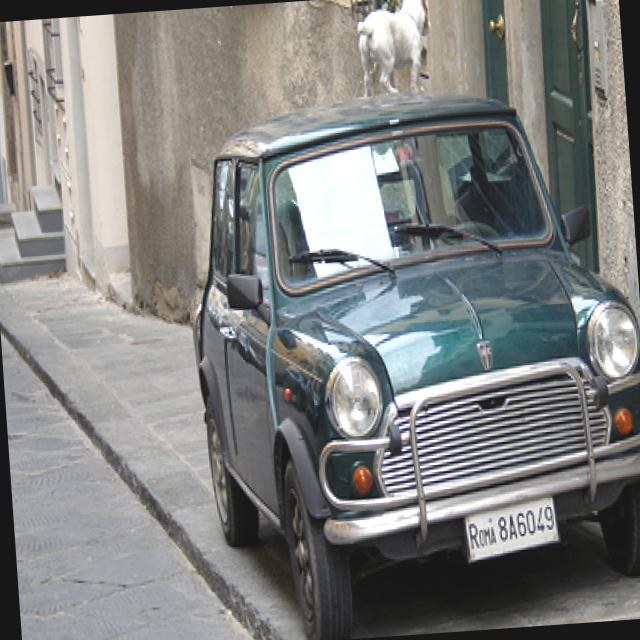Vehicle: (178, 71, 640, 543)
